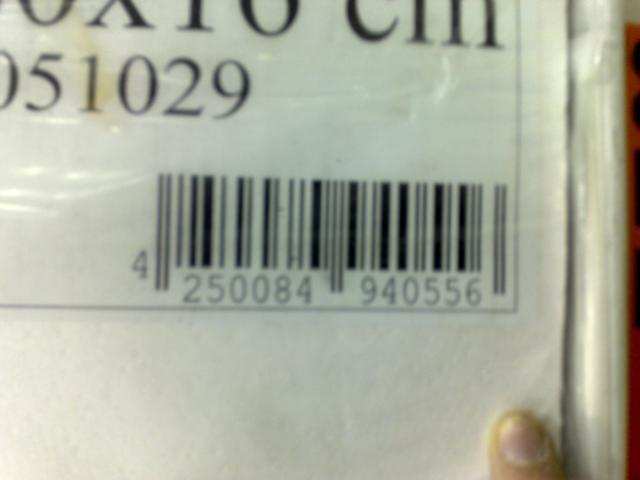Barcode: (126, 159, 514, 315)
